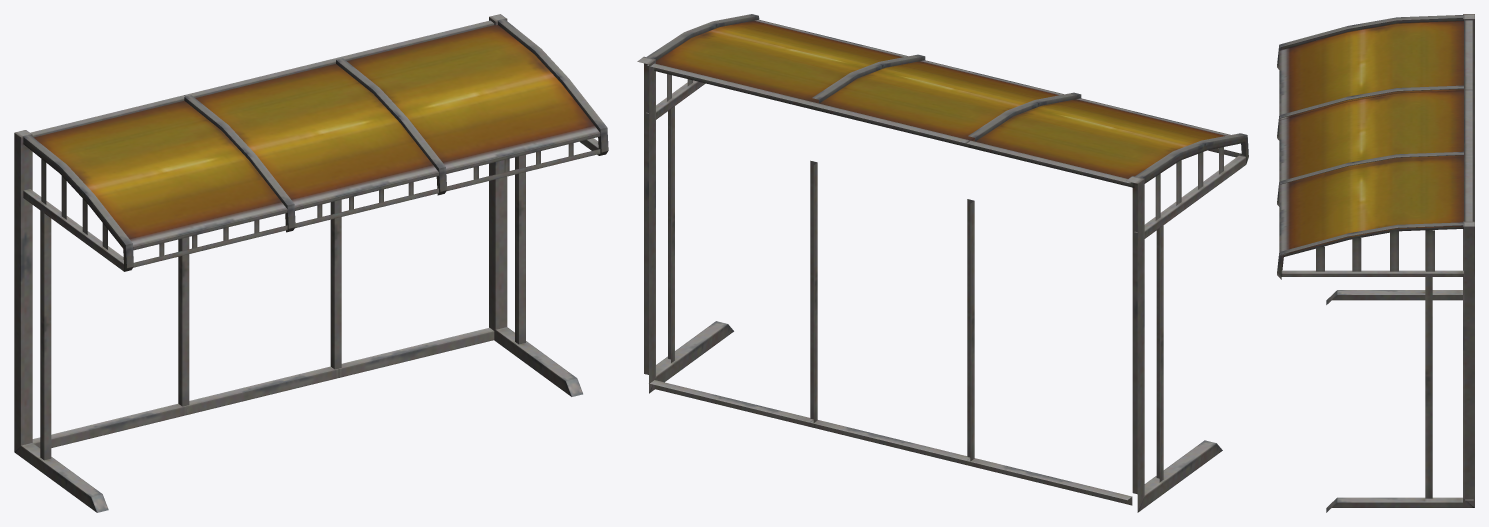
The model's file is zc_lekesigang_peng01.FBX.
3 renders of one model, left to right at view 1: azimuth 30°, elevation 25°; view 2: azimuth 150°, elevation 25°; view 3: azimuth 270°, elevation 25°, orthographic. The views are drawn at different scales.
Visible parts, largest first — view 1: zc_lekesigang_peng01; view 2: zc_lekesigang_peng01; view 3: zc_lekesigang_peng01.
Boxes of the visible parts, x1=… form: zc_lekesigang_peng01: x1=14, y1=14, x2=608, y2=512; zc_lekesigang_peng01: x1=637, y1=14, x2=1248, y2=512; zc_lekesigang_peng01: x1=1277, y1=14, x2=1474, y2=512.
Bounding box in the file's own units: 784 × 493 × 308.
